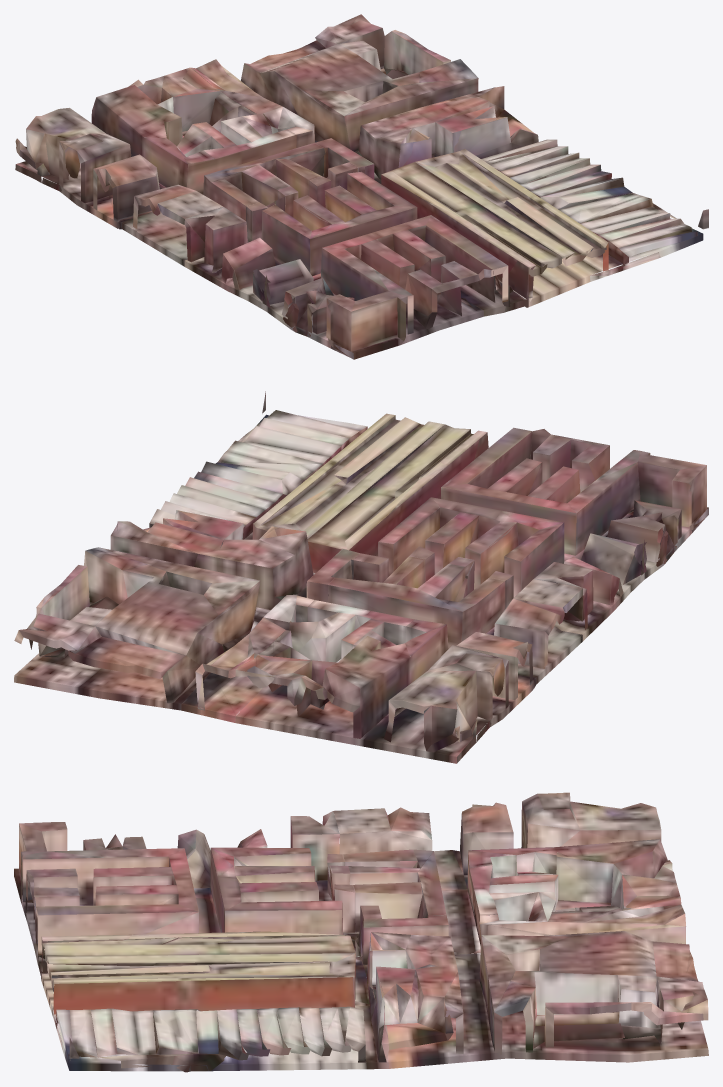
3 renders of one model, top to bottom at view 1: azimuth 30°, elevation 25°; view 2: azimuth 150°, elevation 25°; view 3: azimuth 270°, elevation 25°, orthographic. The views are drawn at different scales.
Parts seen in each view (by area): view 1: Mesh_0; view 2: Mesh_0; view 3: Mesh_0.
Boxes of the visible parts, bbox=[...] form: Mesh_0: bbox=[15, 14, 708, 359]; Mesh_0: bbox=[14, 391, 708, 763]; Mesh_0: bbox=[14, 792, 708, 1072].
Bounding box in the file's own units: 271 × 34.85 × 330.
1 material, 1 textured.
